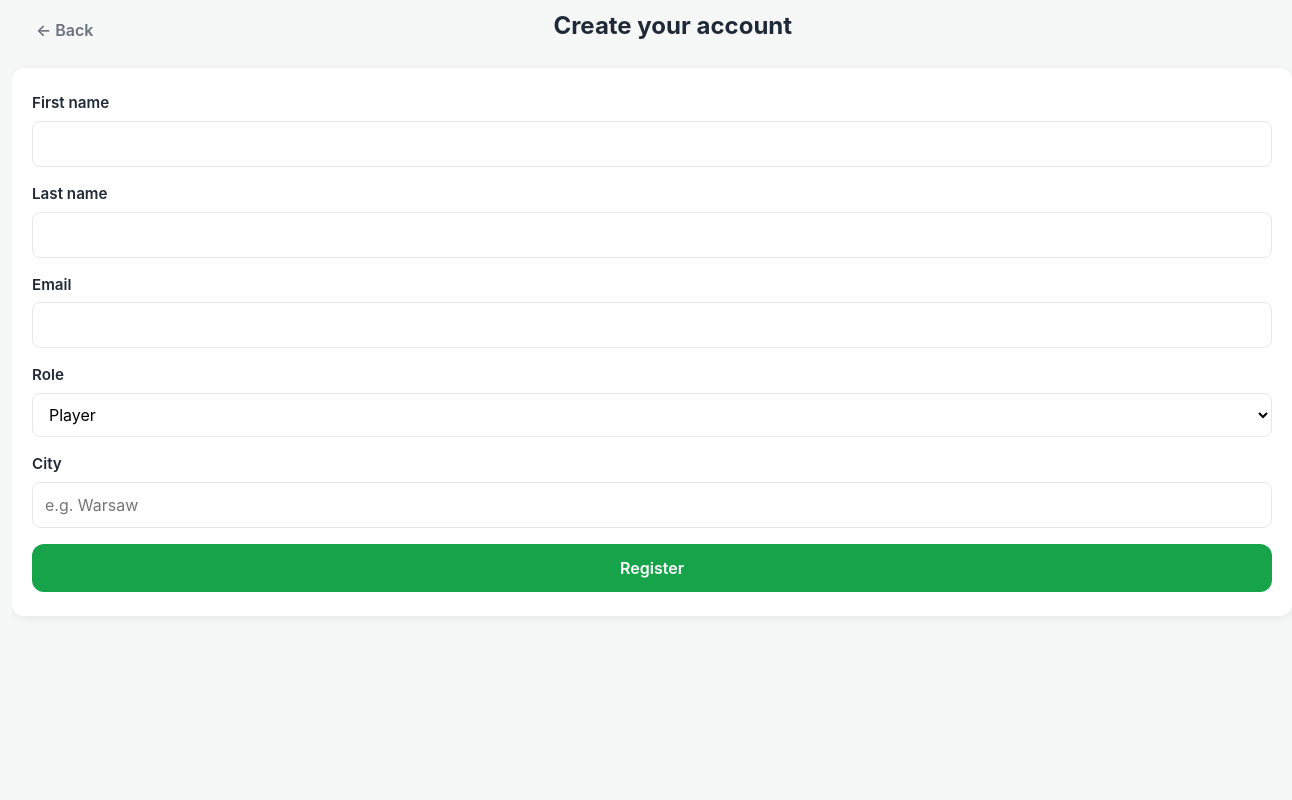
RegistrationPage › rejects a name containing digits
In the field labelled "First name": point(652, 144) [32, 121, 1272, 167], type "John123"
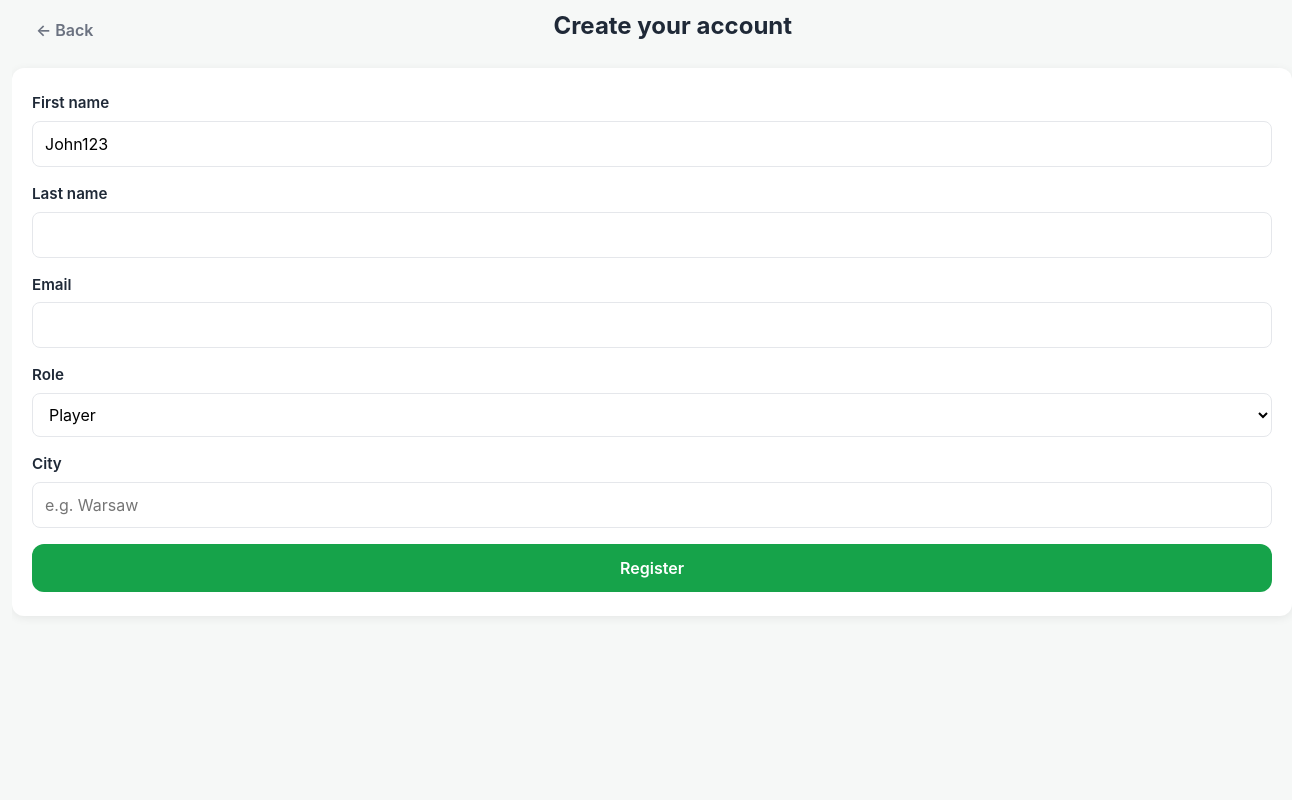
Click the button "Register": point(652, 568) [32, 544, 1272, 592]
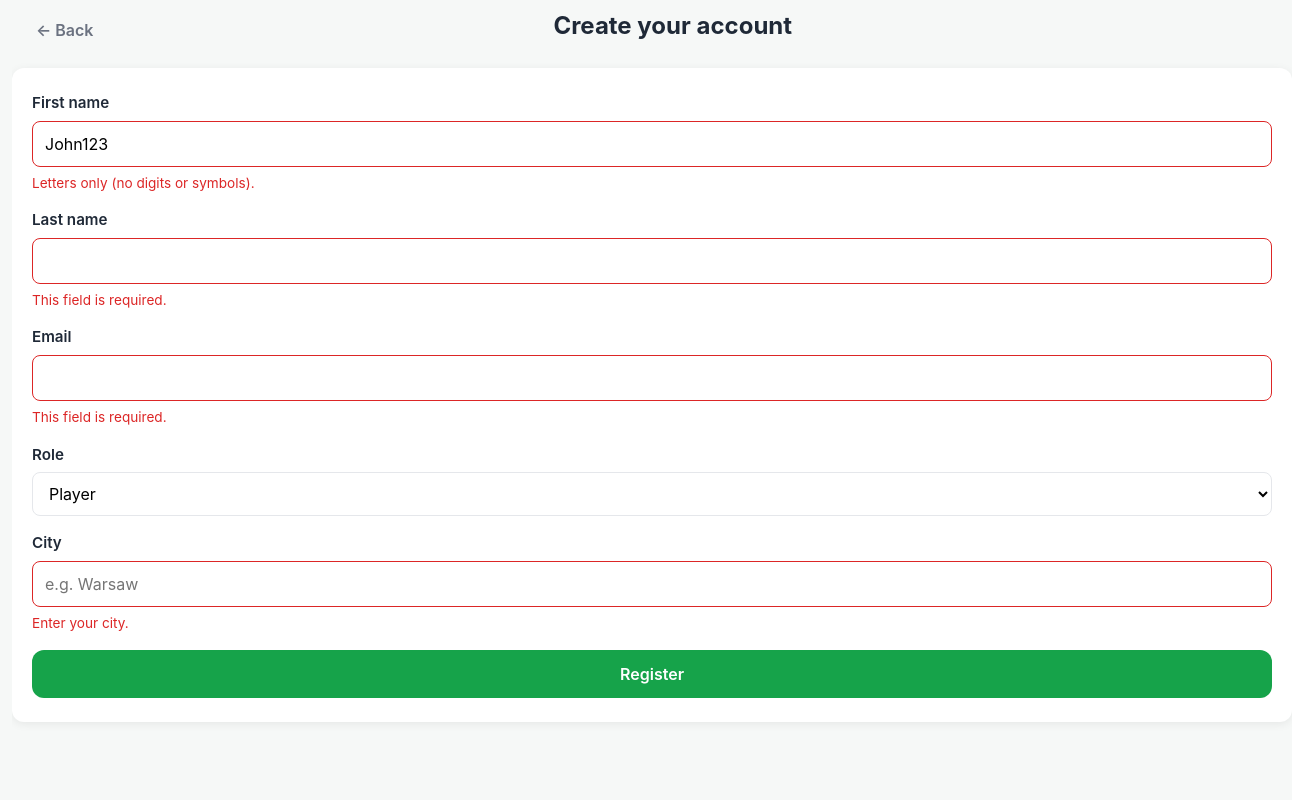
Expected: the text "Letters only (no digits or symbols)." is shown, [32, 175, 255, 191]
